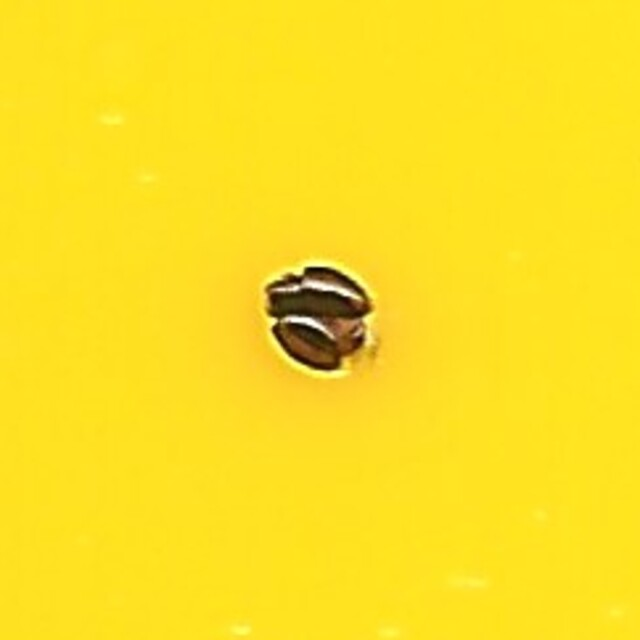Coleoptera: (264, 264, 376, 376)
